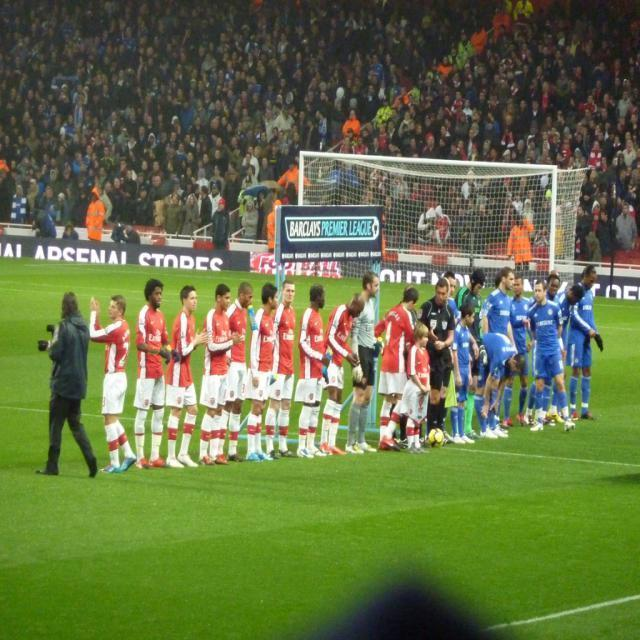ball: (429, 426, 446, 451)
